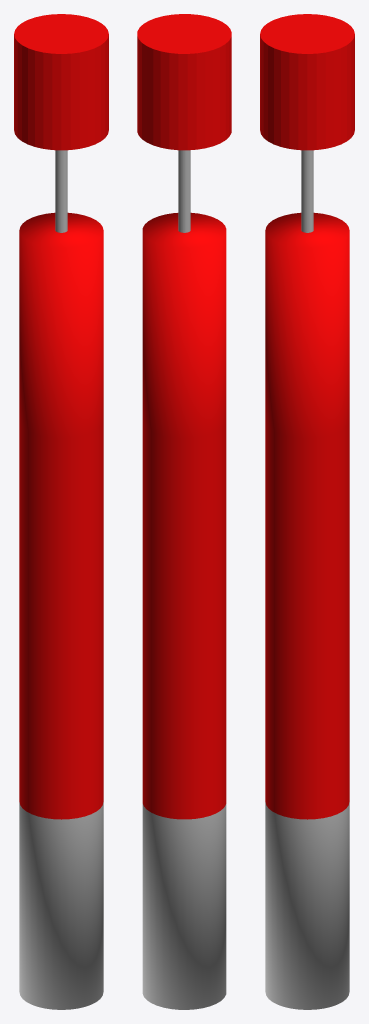
File: Bcn-Portside.gltf
3 renders of one model, left to right at view 1: azimuth 90°, elevation 25°; view 2: azimuth 150°, elevation 25°; view 3: azimuth 270°, elevation 25°, orthographic.
Visible parts, largest first — view 1: Cylinder.034, Cylindre babord.001, Axe.008; view 2: Cylinder.034, Cylindre babord.001, Axe.008; view 3: Cylinder.034, Cylindre babord.001, Axe.008.
Boxes of the visible parts, x1,y1,x2,y2 form: Cylinder.034: (19,212,103,1009); Cylindre babord.001: (14,14,108,150); Axe.008: (55,150,67,232); Cylinder.034: (142,212,226,1009); Cylindre babord.001: (137,14,231,150); Axe.008: (178,150,190,232); Cylinder.034: (265,212,349,1009); Cylindre babord.001: (260,14,354,150); Axe.008: (301,150,313,232).
Bounding box in the file's own units: 0.4512 × 5.03 × 0.4512.
